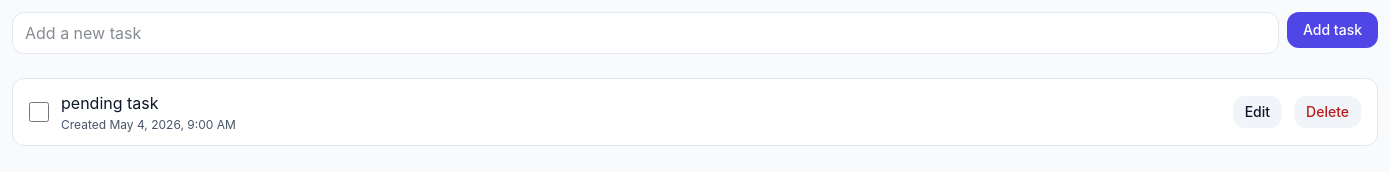
Test case: <TaskRow /> behaviours (rendered through <TaskList />) › cancels an edit on Escape without contacting the server
The width and height of the screenshot is (1390, 172).
Click the button named "edit \"pending task\"" at (1257, 112), box [1233, 96, 1282, 128]
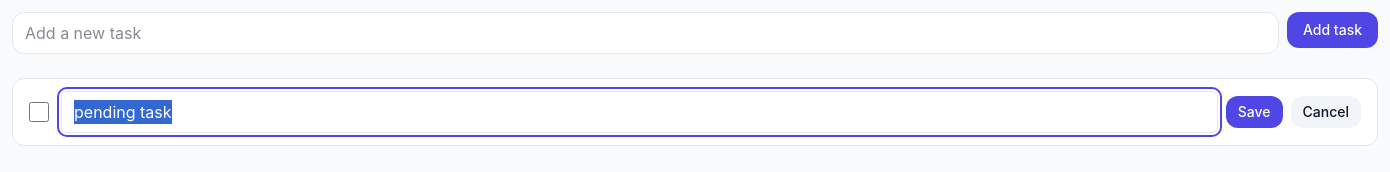
Replace the text in the field named "edit task title" with "discarded" at (639, 112), box [61, 91, 1218, 133]
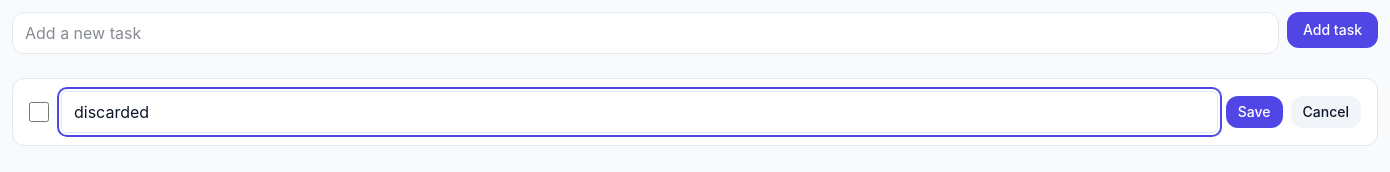
Press Escape in the field named "edit task title", box [61, 91, 1218, 133]
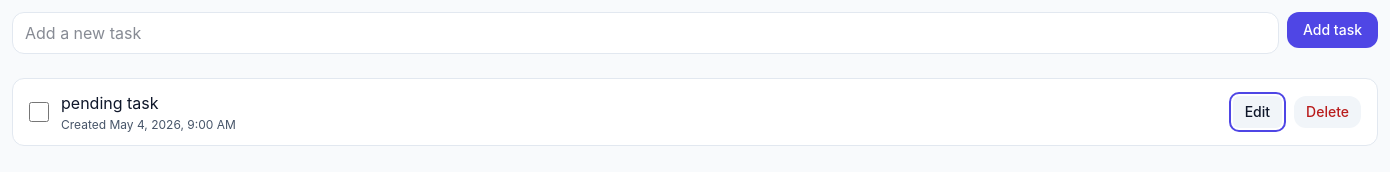
Expected: the button "Save" is gone
Expected: the text "pending task" is shown, [61, 93, 158, 113]
